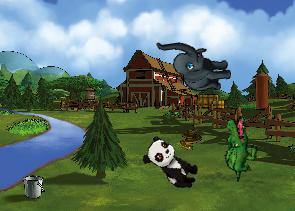crocodile: (210, 113, 267, 182)
elephant: (156, 32, 233, 97)
panda: (138, 133, 205, 194)
